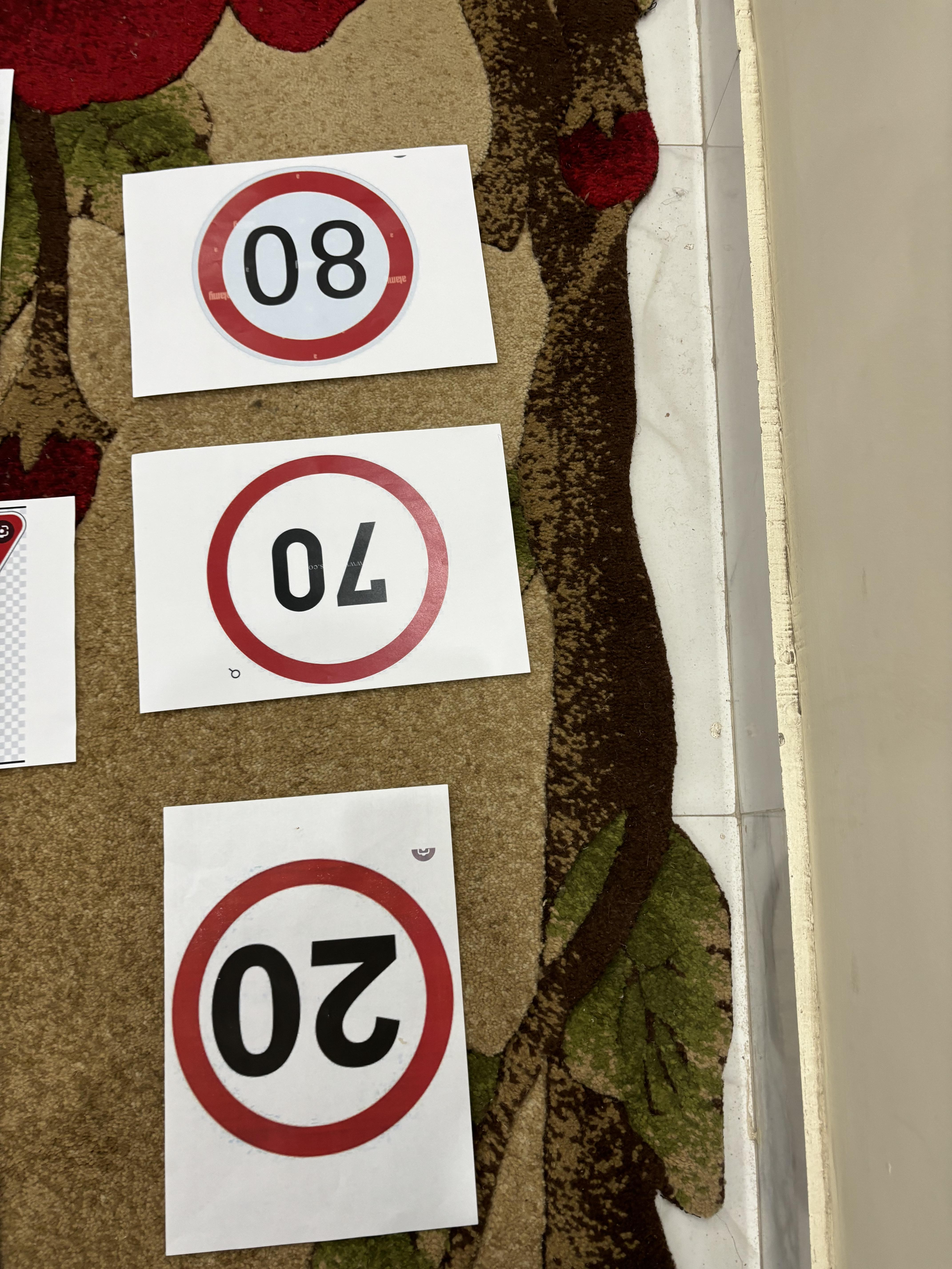20-Speed: (164, 847, 463, 1158)
70-Speed: (198, 454, 463, 689)
80-Speed: (194, 165, 420, 367)
